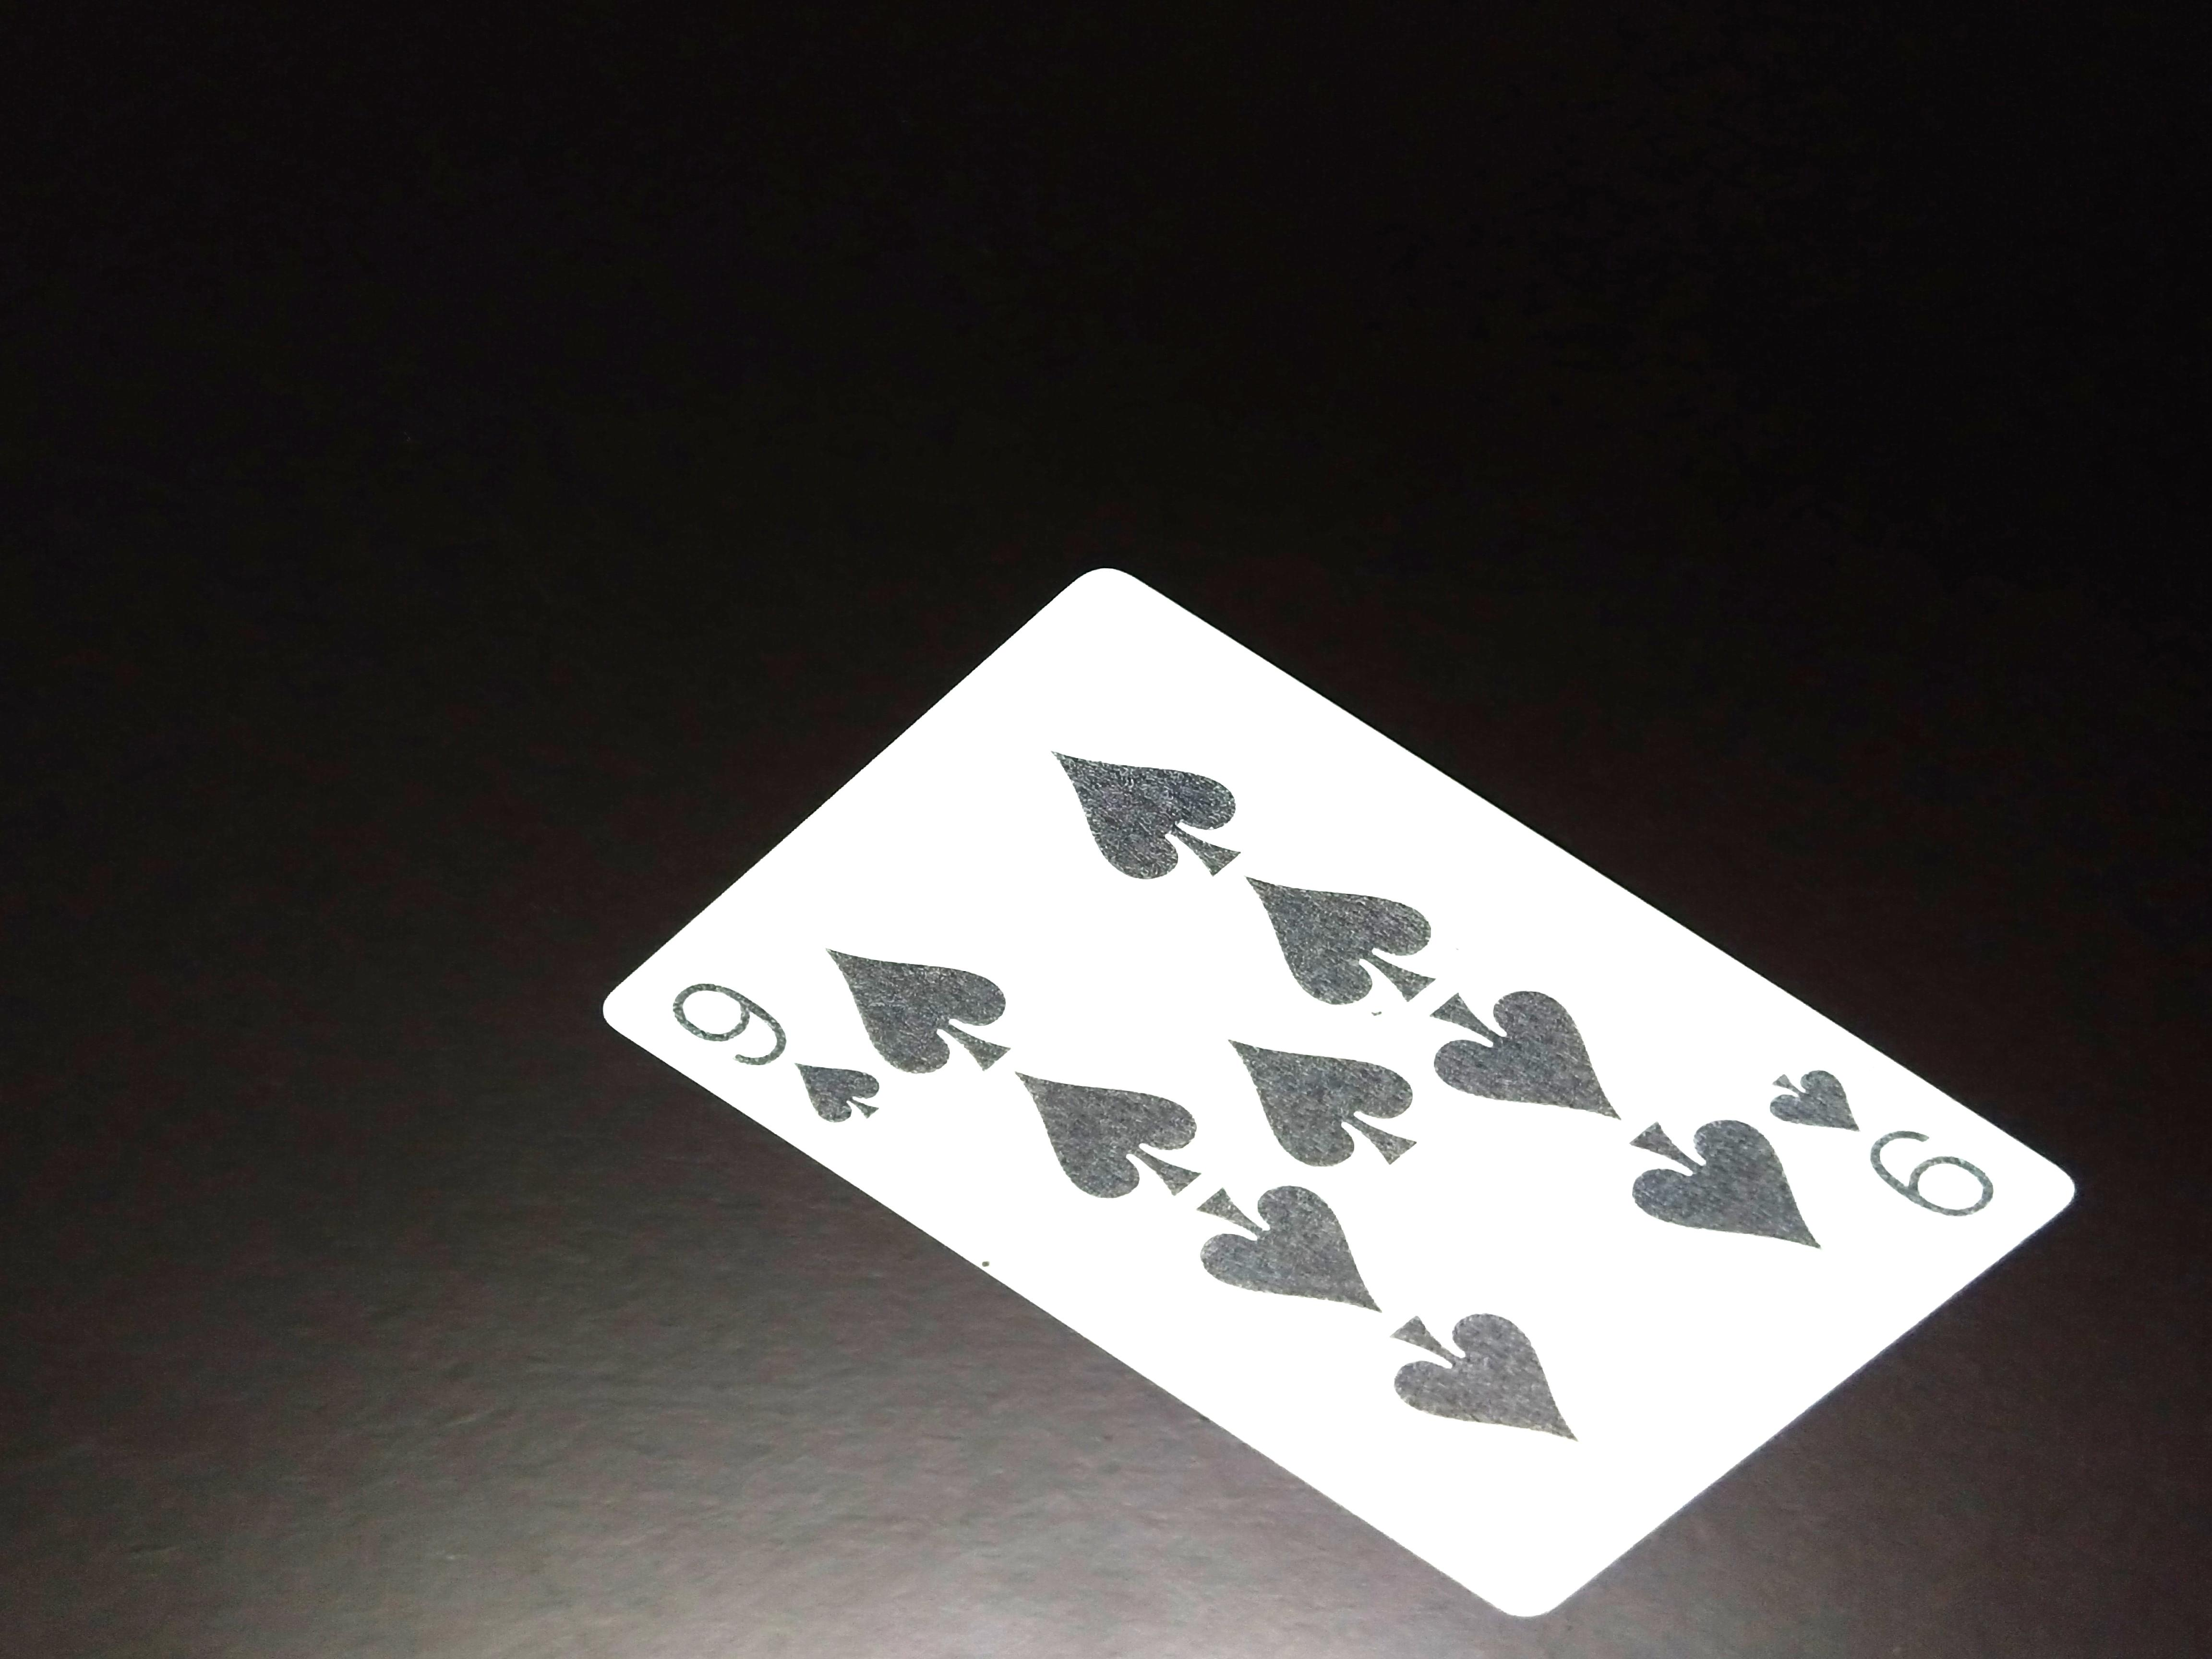9S: (653, 969, 876, 1138)
